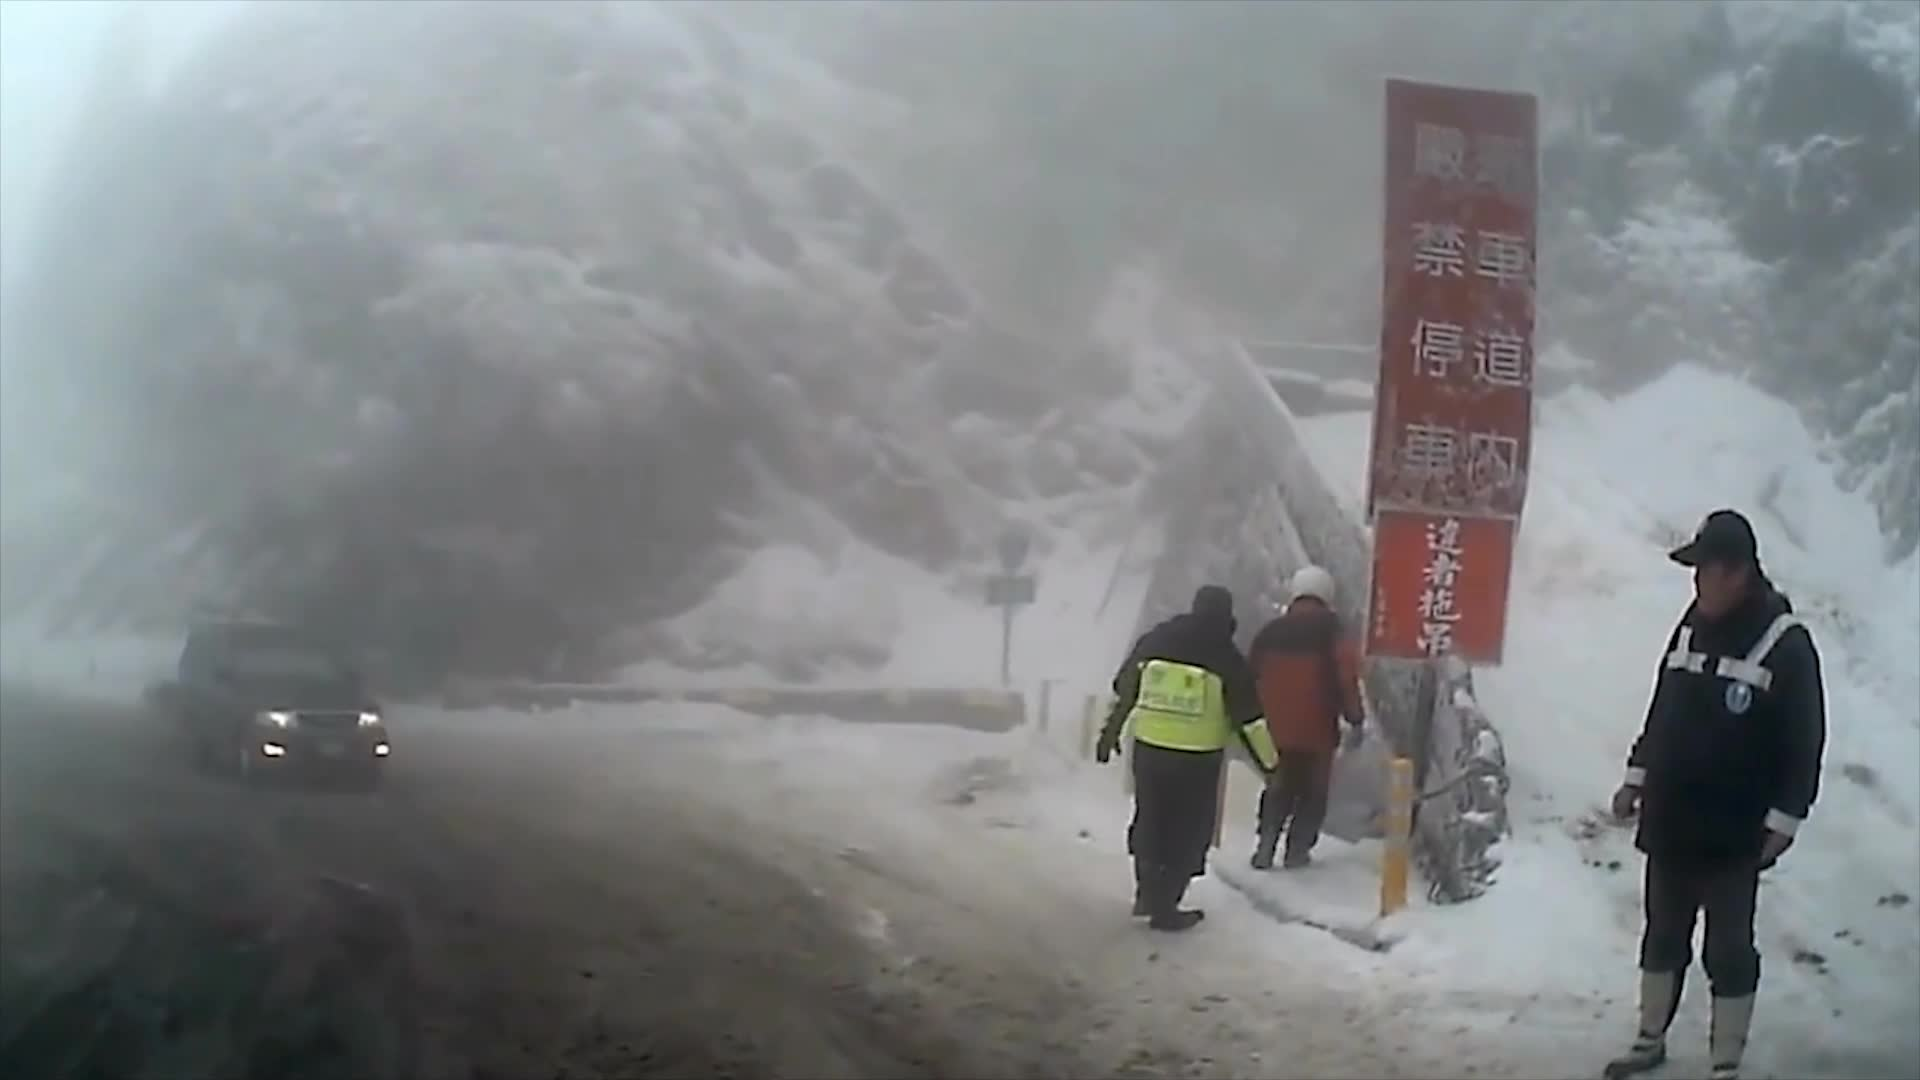pedestrian: (1610, 512, 1830, 1079), (1095, 585, 1269, 934), (1243, 563, 1367, 870)
vehicle: (175, 621, 391, 792)
